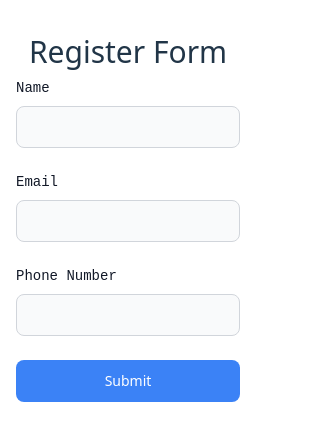
it: Register Form Component › show validation empty fields errors
This screenshot has width=320, height=443.
Click the button "Submit" at x=128, y=381, box x1=16 y1=360 x2=240 y2=402
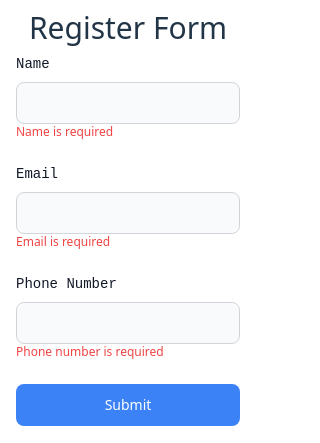
expect the text "Name is required" is shown: met, box x1=16 y1=123 x2=113 y2=140
expect the text "Email is required" is shown: met, box x1=16 y1=233 x2=110 y2=250
expect the text "Phone number is required" is shown: met, box x1=16 y1=343 x2=164 y2=360
